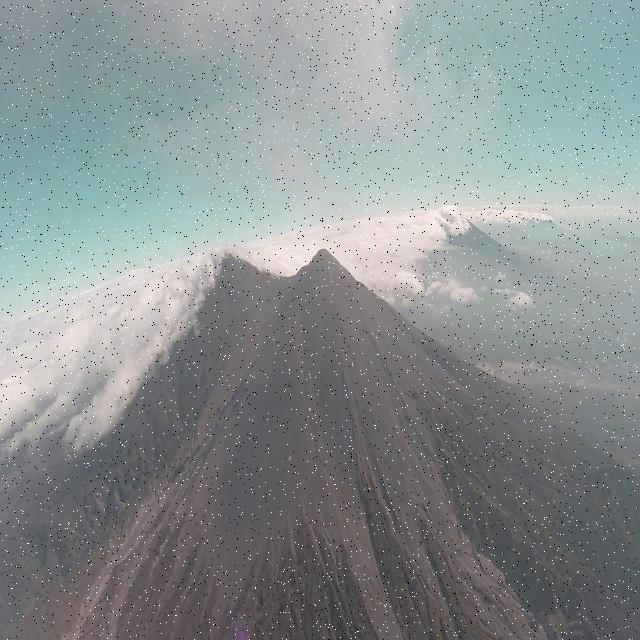Plume: (0, 0, 460, 191)
Summit: (301, 246, 344, 272)
